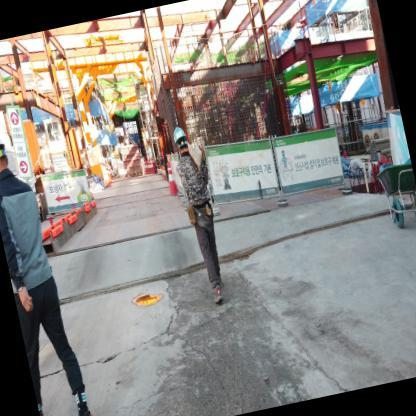safety-shoe: (206, 280, 230, 309)
